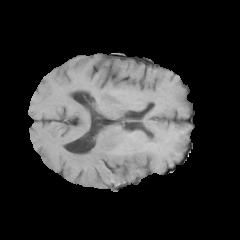glioma: (56, 117, 172, 183)
